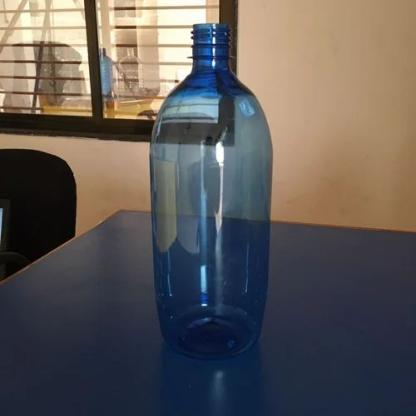Plastic Bottle: (137, 12, 285, 366)
